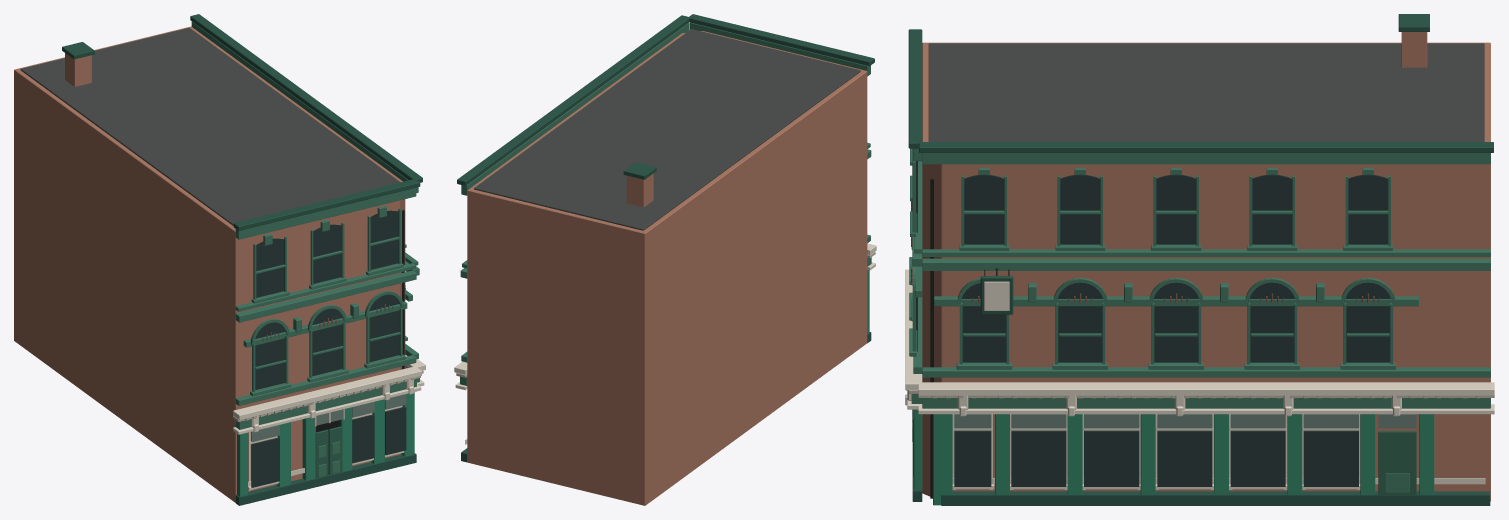
Rendered from harperhey-gullivers.glb.
3 views of the same model, side by side, from view 1: azimuth 30°, elevation 25°; view 2: azimuth 150°, elevation 25°; view 3: azimuth 270°, elevation 25° (orthographic). The views are drawn at different scales.
Visible parts, largest first — view 1: Gullivers_Runtime_Shell, Gullivers_Runtime_Roof, Gullivers_Runtime_Windows, Gullivers_Runtime_UpperTrim, Gullivers_Runtime_GroundFloor, Gullivers_Runtime_Cornice, Gullivers_Runtime_Doors; view 2: Gullivers_Runtime_Shell, Gullivers_Runtime_Roof, Gullivers_Runtime_Cornice; view 3: Gullivers_Runtime_Shell, Gullivers_Runtime_Roof, Gullivers_Runtime_Windows, Gullivers_Runtime_UpperTrim, Gullivers_Runtime_Cornice, Gullivers_Runtime_GroundFloor, Gullivers_Runtime_Doors, Gullivers_Runtime_SignStructures.
Part boxes in pixels (box(x1,y1,x2,y2)): Gullivers_Runtime_Shell: box(14, 26, 405, 502); Gullivers_Runtime_Roof: box(20, 14, 422, 239); Gullivers_Runtime_Windows: box(248, 208, 406, 490); Gullivers_Runtime_UpperTrim: box(235, 206, 419, 490); Gullivers_Runtime_GroundFloor: box(235, 392, 416, 505); Gullivers_Runtime_Cornice: box(233, 355, 425, 434); Gullivers_Runtime_Doors: box(315, 420, 342, 478); Gullivers_Runtime_Shell: box(467, 31, 867, 505); Gullivers_Runtime_Roof: box(457, 14, 874, 230); Gullivers_Runtime_Cornice: box(454, 243, 876, 390); Gullivers_Runtime_Shell: box(922, 42, 1490, 501); Gullivers_Runtime_Roof: box(908, 14, 1493, 164); Gullivers_Runtime_Windows: box(911, 148, 1416, 489); Gullivers_Runtime_UpperTrim: box(909, 148, 1490, 489); Gullivers_Runtime_Cornice: box(905, 269, 1494, 416); Gullivers_Runtime_GroundFloor: box(912, 409, 1490, 505); Gullivers_Runtime_Doors: box(912, 409, 1416, 494); Gullivers_Runtime_SignStructures: box(980, 268, 1013, 314).
Size of the model in its own units: 7.99 by 12.18 by 16.59.
